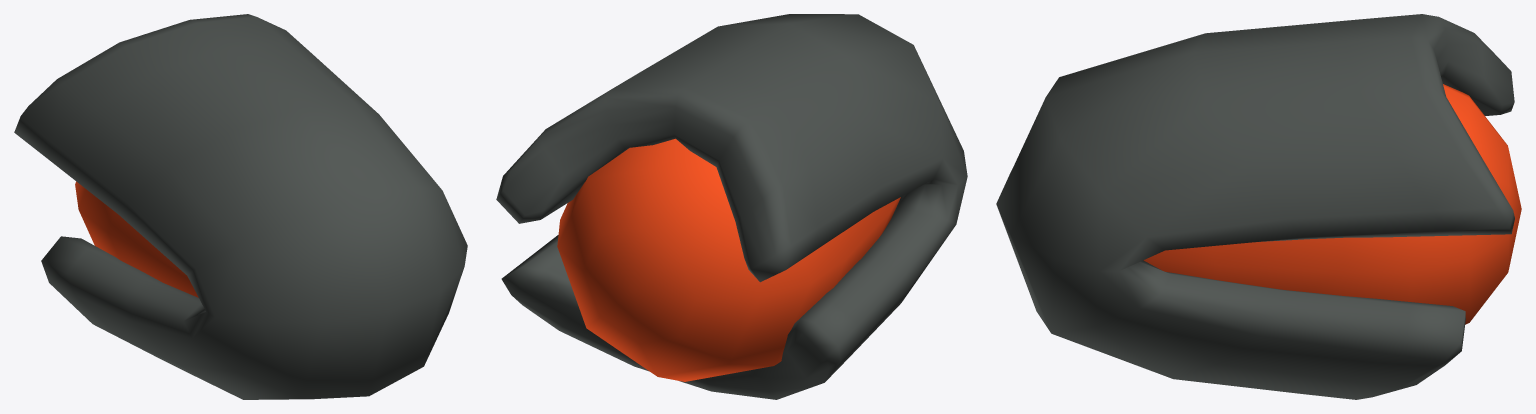
Rendered from xsens_RightFourthDP.dae.
The picture shows the model from 3 angles, left to right: view 1: azimuth 30°, elevation 25°; view 2: azimuth 150°, elevation 25°; view 3: azimuth 270°, elevation 25°; orthographic projection. The views are drawn at different scales.
Visible parts, largest first — view 1: RightFourthDP; view 2: RightFourthDP; view 3: RightFourthDP.
Boxes of the visible parts, <box> form: RightFourthDP: <box>14,14,467,399</box>; RightFourthDP: <box>496,14,967,399</box>; RightFourthDP: <box>996,14,1521,399</box>.
Bounding box in the file's own units: 0.0157 × 0.0215 × 0.0153.
